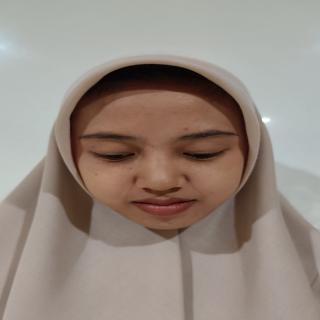Sedih: (66, 81, 263, 238)
